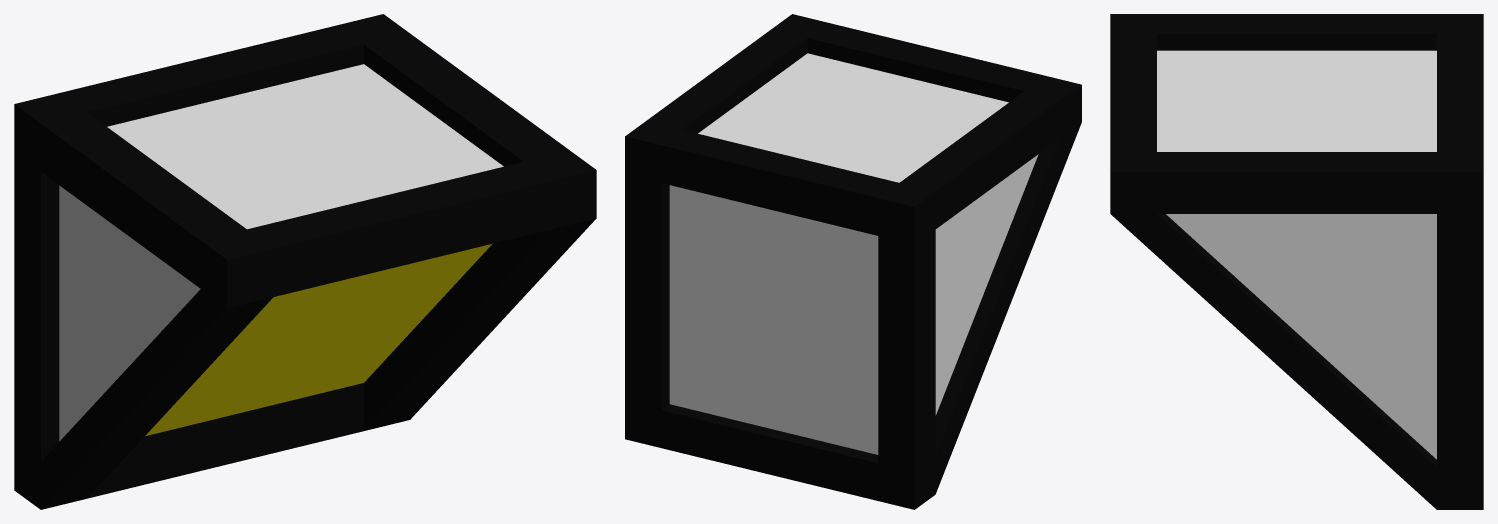
The model's file is Mirror.fbx.
3 views of the same model, side by side, from view 1: azimuth 30°, elevation 25°; view 2: azimuth 150°, elevation 25°; view 3: azimuth 270°, elevation 25° (orthographic). The views are drawn at different scales.
Visible parts, largest first — view 1: Cube, Cube.001; view 2: Cube, Cube.001; view 3: Cube, Cube.001.
Boxes of the visible parts, box(x1,y1,x2,y2) form: Cube: box(14, 14, 596, 509); Cube.001: box(59, 64, 503, 441); Cube: box(625, 14, 1081, 509); Cube.001: box(669, 53, 1038, 454); Cube: box(1110, 14, 1483, 509); Cube.001: box(1157, 50, 1436, 459).
Size of the model in its own units: 200 by 200 by 200.
